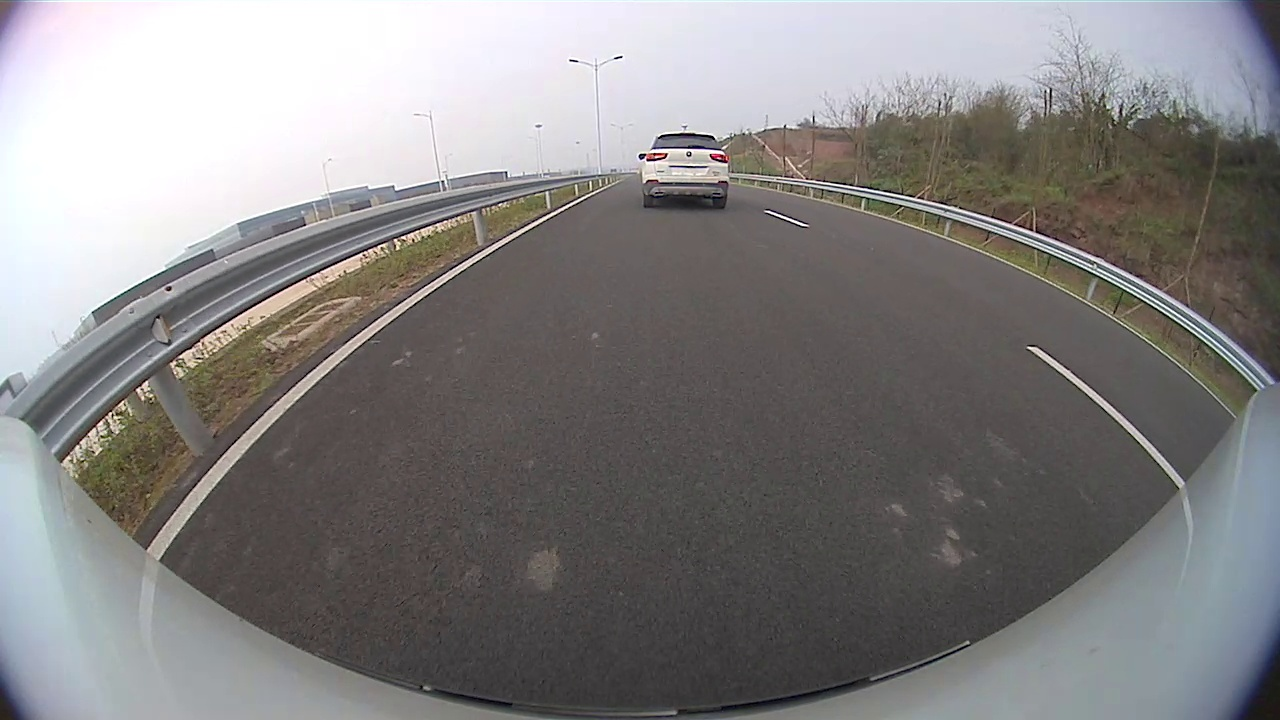car: (638, 129, 730, 207)
